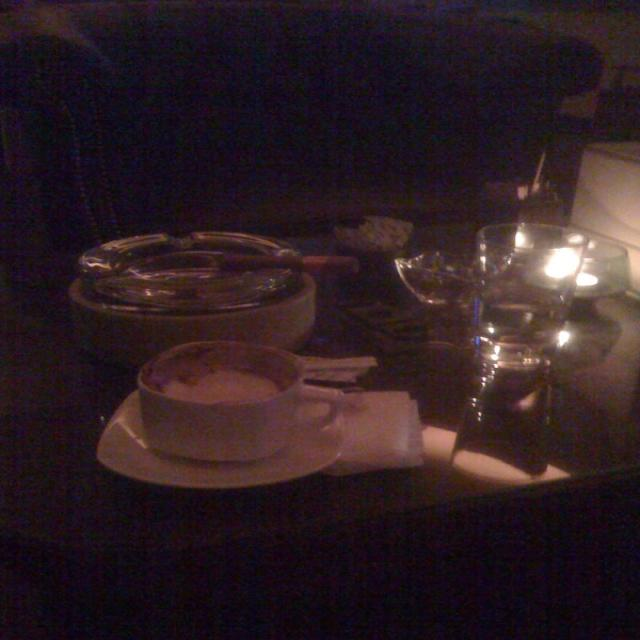Cup: (384, 203, 640, 428), (98, 319, 334, 501)
Table: (0, 323, 640, 640)
chair: (5, 0, 640, 231)
